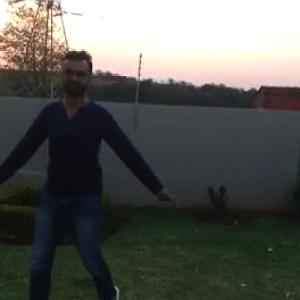land: (20, 75, 146, 260)
